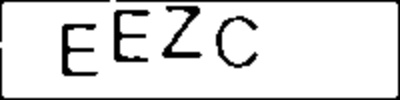C: (212, 13, 263, 71)
E: (58, 19, 102, 80), (109, 5, 151, 64)
Z: (157, 2, 208, 62)
